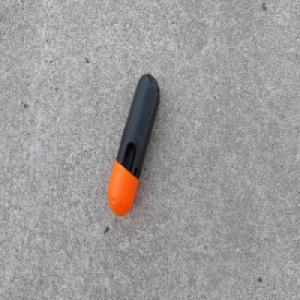PlasticPart: (106, 71, 160, 217)
